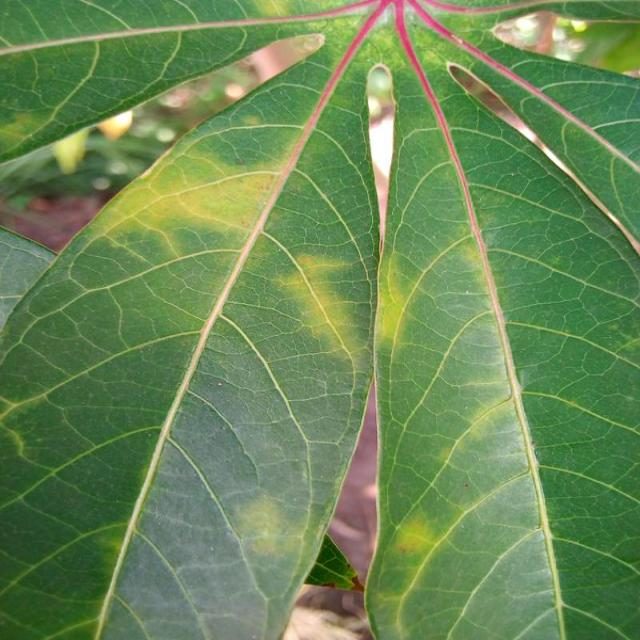cassava leaf: (1, 1, 638, 638), (364, 7, 638, 638)
